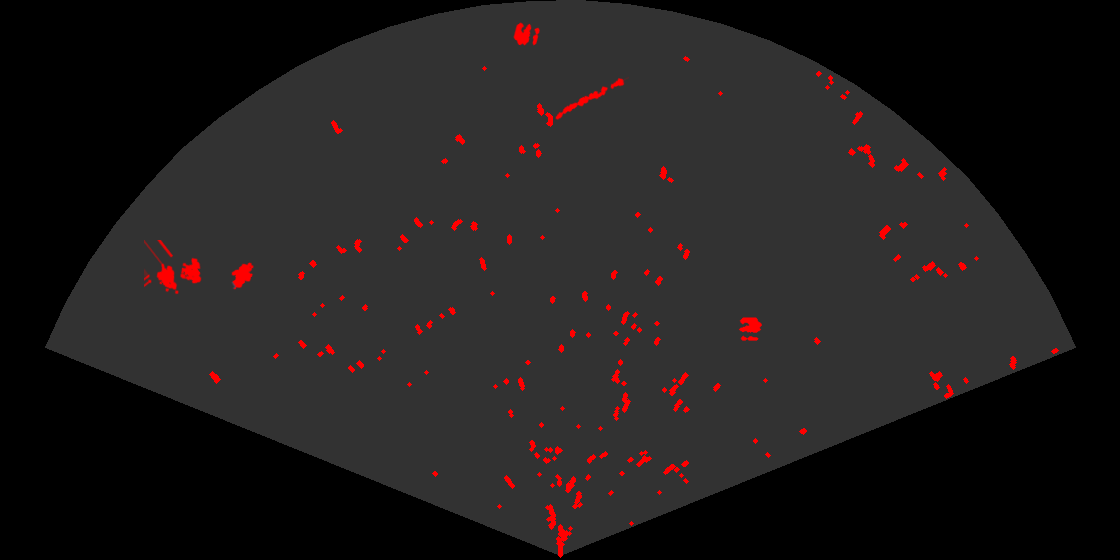AUV: (230, 261, 255, 291)
ball: (512, 21, 541, 47), (737, 316, 763, 342)
cage: (144, 240, 203, 296)
chain: (554, 75, 629, 121)
